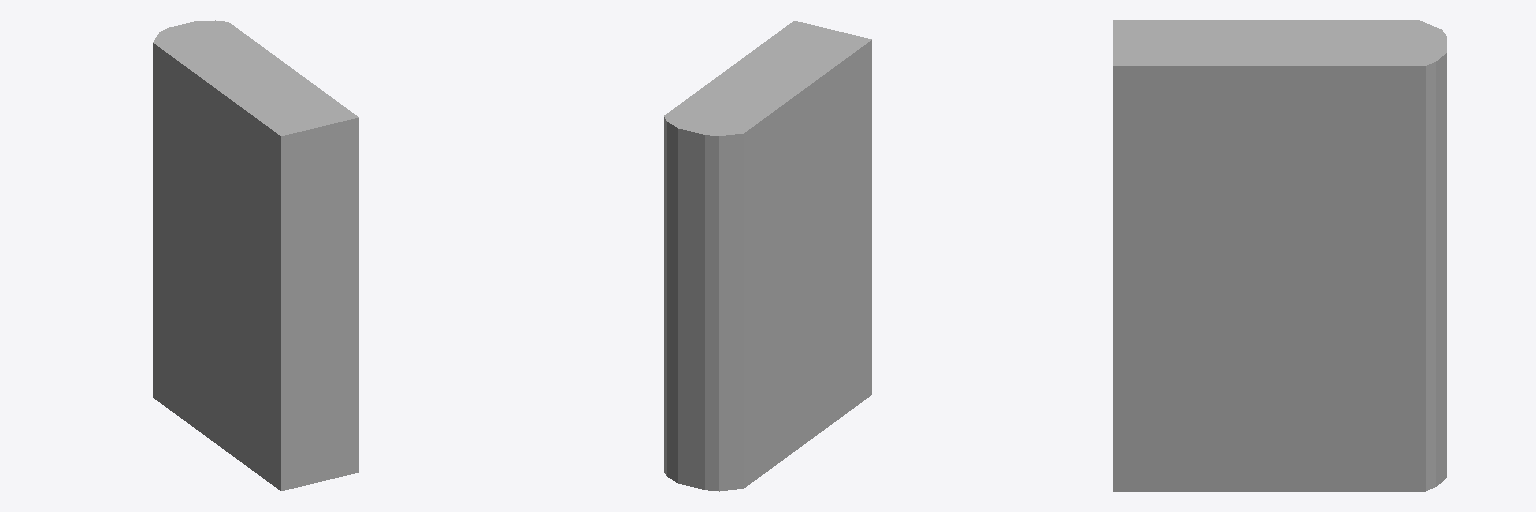
robot.urdf — root:
<robot name="root">
  <link name="link_9a4d1a3547c552f93ae08b60cd1be645_convex_piece_0">
    <inertial>
      <origin rpy="0 0 0" xyz="0 0 0"/>
      <mass value="3.70E-05"/>
      <inertia ixx="1.89E-08" ixy="1.43E-11" ixz="-1.02E-20" iyy="1.34E-08" iyz="8.21E-19" izz="6.89E-09"/>
    </inertial>
    <visual>
      <origin rpy="0 0 0" xyz="0 0 0"/>
      <geometry>
        <mesh filename="9a4d1a3547c552f93ae08b60cd1be645_convex_piece_0.obj" scale="1.0000E+00"/>
      </geometry>
      <material name="">
        <color rgba="7.50E-01 7.50E-01 7.50E-01 1"/>
      </material>
    </visual>
    <collision>
      <origin rpy="0 0 0" xyz="0 0 0"/>
      <geometry>
        <mesh filename="9a4d1a3547c552f93ae08b60cd1be645_convex_piece_0.obj" scale="1.0000E+00"/>
      </geometry>
    </collision>
  </link>
</robot>

--- Facts derived from the render (not from the file) ---
The picture shows the robot from 3 angles, left to right: view 1: azimuth 30°, elevation 25°; view 2: azimuth 150°, elevation 25°; view 3: azimuth 270°, elevation 25°; orthographic projection.
Model root with 1 links and 0 joints (none), rooted at link_9a4d1a3547c552f93ae08b60cd1be645_convex_piece_0, posed all joints at 0.
Links seen in each view (by area): view 1: link_9a4d1a3547c552f93ae08b60cd1be645_convex_piece_0; view 2: link_9a4d1a3547c552f93ae08b60cd1be645_convex_piece_0; view 3: link_9a4d1a3547c552f93ae08b60cd1be645_convex_piece_0.
Boxes of the visible links, bbox=[...] form: link_9a4d1a3547c552f93ae08b60cd1be645_convex_piece_0: bbox=[153, 20, 358, 490]; link_9a4d1a3547c552f93ae08b60cd1be645_convex_piece_0: bbox=[664, 21, 871, 491]; link_9a4d1a3547c552f93ae08b60cd1be645_convex_piece_0: bbox=[1113, 20, 1446, 491].
Bounding box of the posed robot: 0.0148 × 0.0458 × 0.0642 m (x, y, z).
1 mesh visuals loaded from 1 distinct referenced files (1 OBJ).